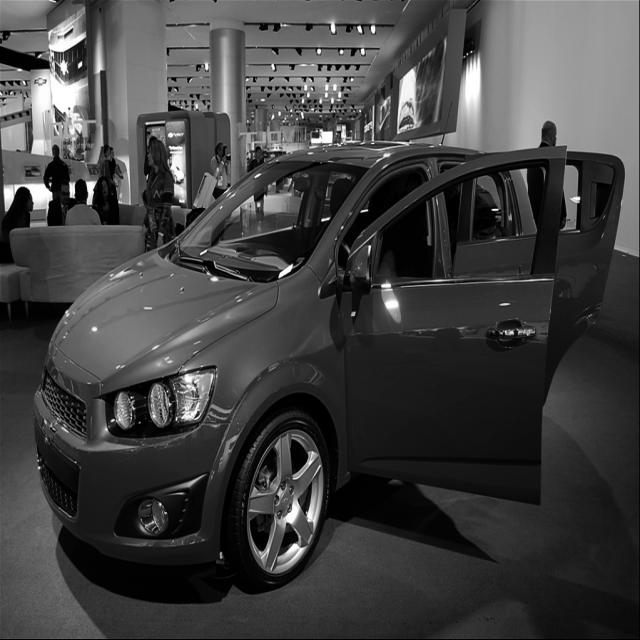car: (32, 139, 626, 592)
